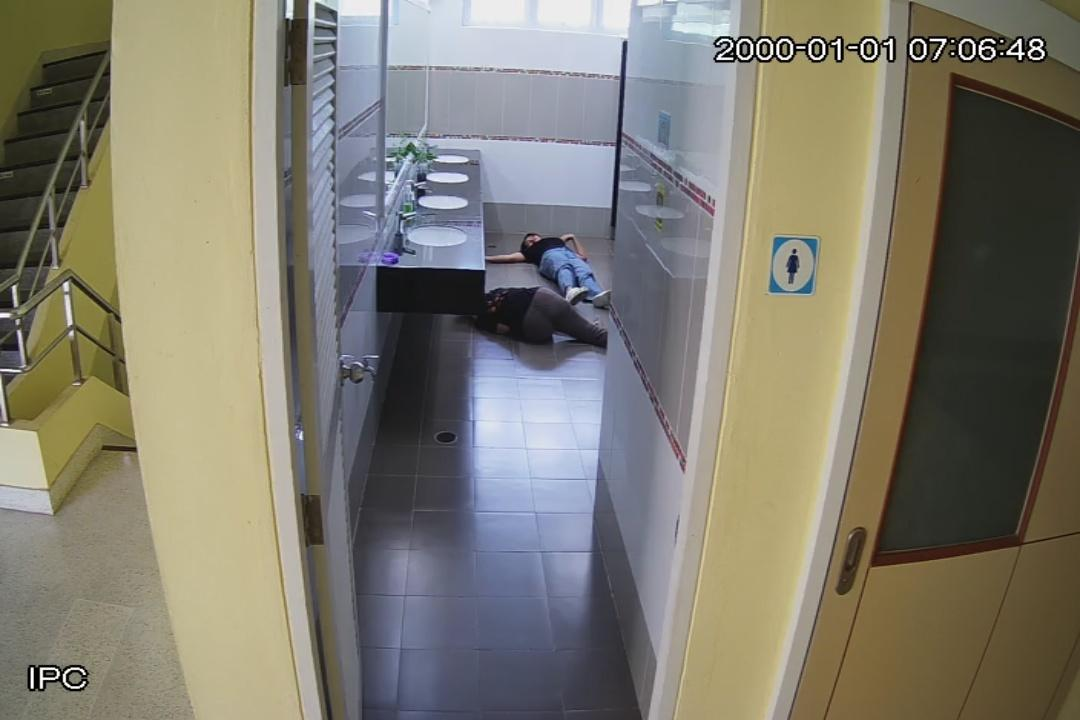fall: (486, 232, 610, 303), (476, 287, 609, 348)
